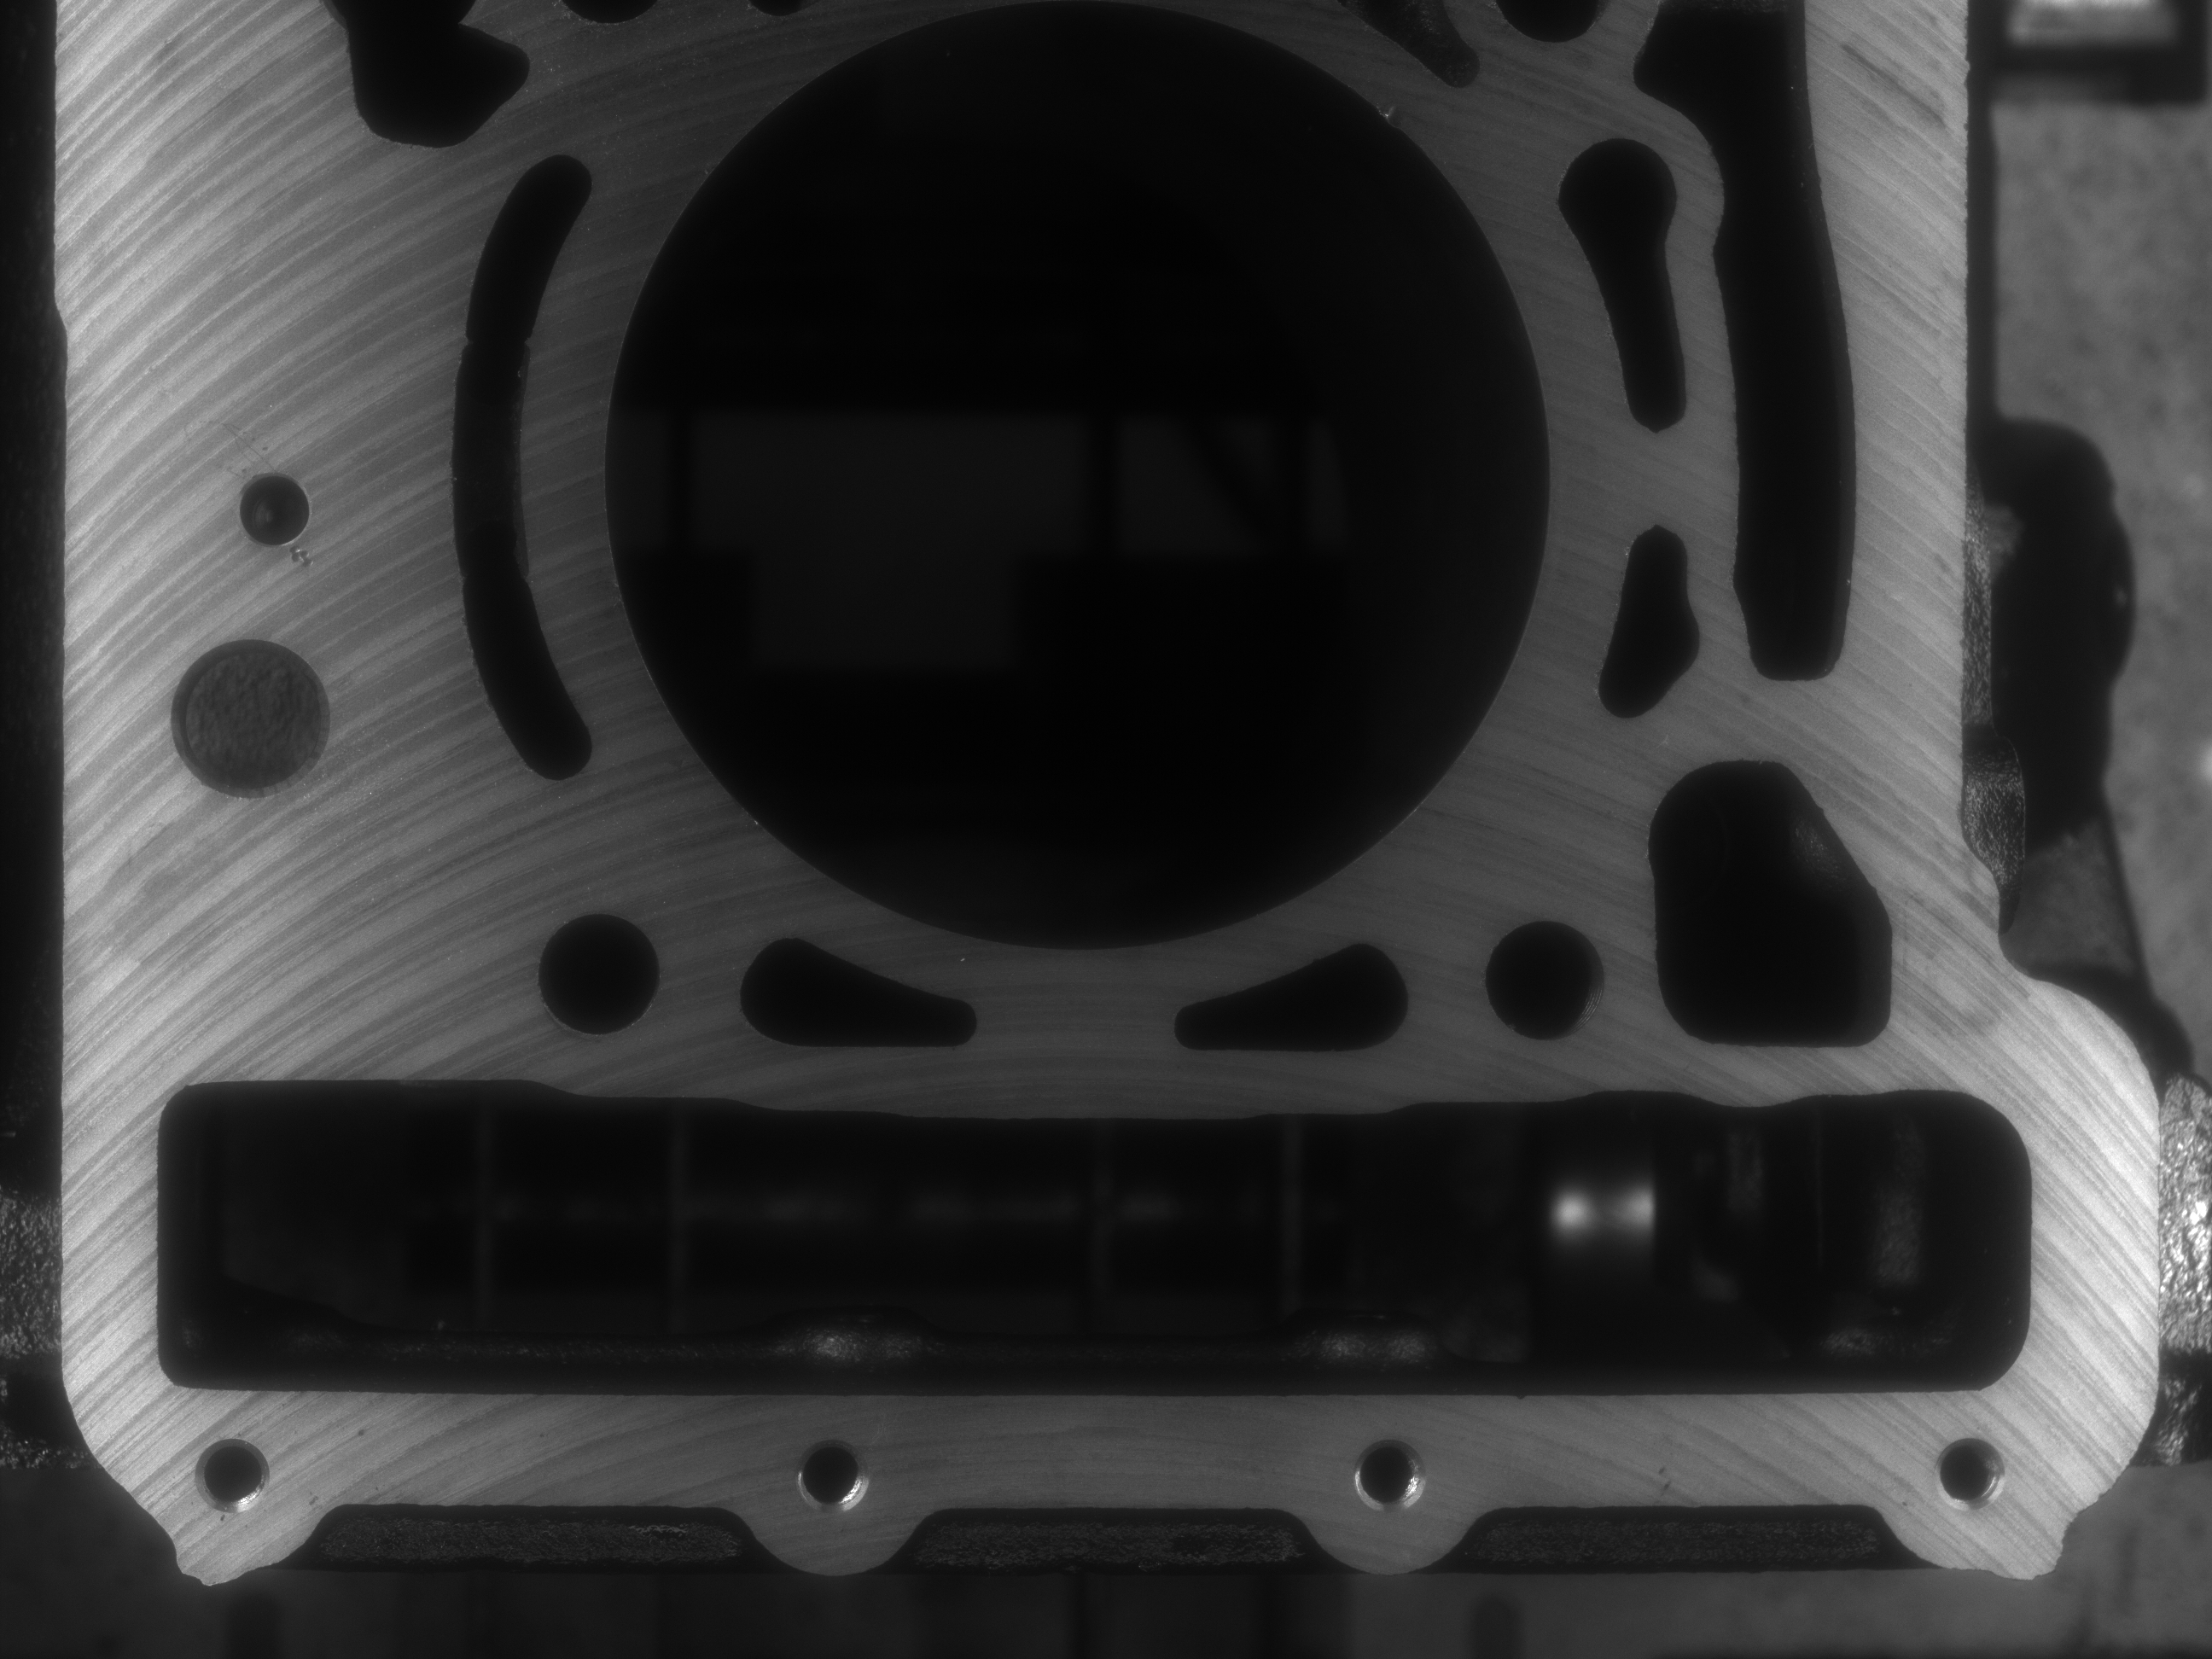shrinkage: (284, 538, 312, 572)
